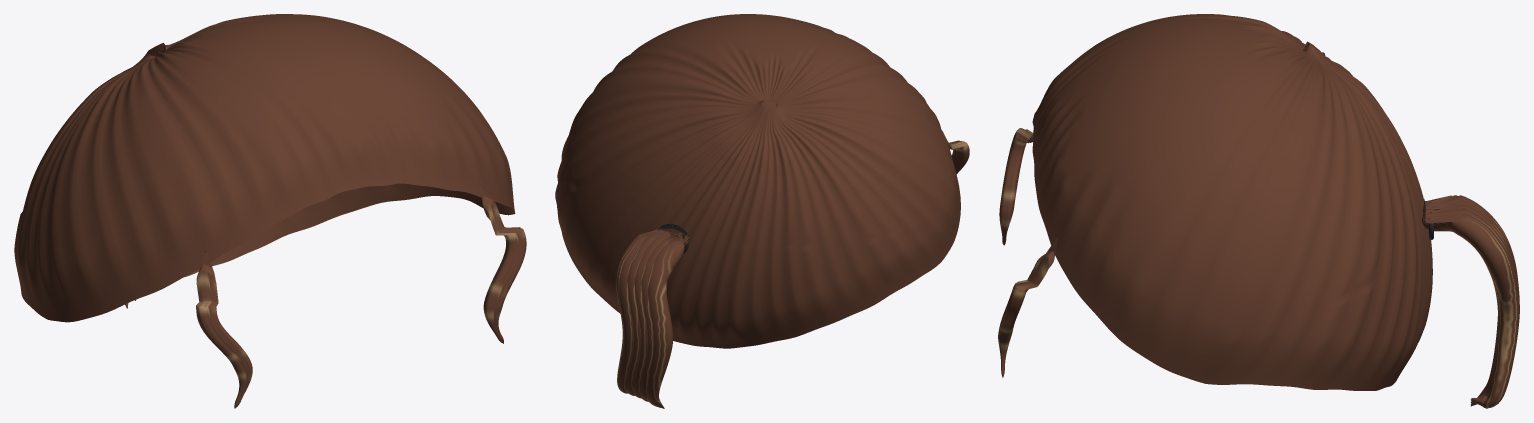
File: Highlights-20f16ecb6b36252-hair.glb
The picture shows the model from 3 angles, left to right: view 1: azimuth 30°, elevation 25°; view 2: azimuth 150°, elevation 25°; view 3: azimuth 270°, elevation 25°; orthographic projection. The views are drawn at different scales.
Parts seen in each view (by area): view 1: 226 hair / Hair / crisp pulled roots220.002, 226 hair / Hair / sculpted front locks222.002; view 2: 226 hair / Hair / crisp pulled roots220.002, 226 hair / Hair / chestnut226.001, 226 hair / Hair / sculpted front locks222.002; view 3: 226 hair / Hair / crisp pulled roots220.002, 226 hair / Hair / chestnut226.001, 226 hair / Hair / sculpted front locks222.002.
Part boxes in pixels (x1,y1,x2,y2): 226 hair / Hair / crisp pulled roots220.002: (14, 14, 515, 322); 226 hair / Hair / sculpted front locks222.002: (196, 184, 526, 408); 226 hair / Hair / crisp pulled roots220.002: (555, 14, 960, 348); 226 hair / Hair / chestnut226.001: (615, 228, 690, 408); 226 hair / Hair / sculpted front locks222.002: (941, 130, 969, 173); 226 hair / Hair / crisp pulled roots220.002: (1032, 14, 1432, 390); 226 hair / Hair / chestnut226.001: (1422, 195, 1519, 408); 226 hair / Hair / sculpted front locks222.002: (998, 128, 1057, 377).
Bounding box in the file's own units: 0.9675 × 0.7594 × 0.9657.
Materials: 4 (3 with a texture image).
